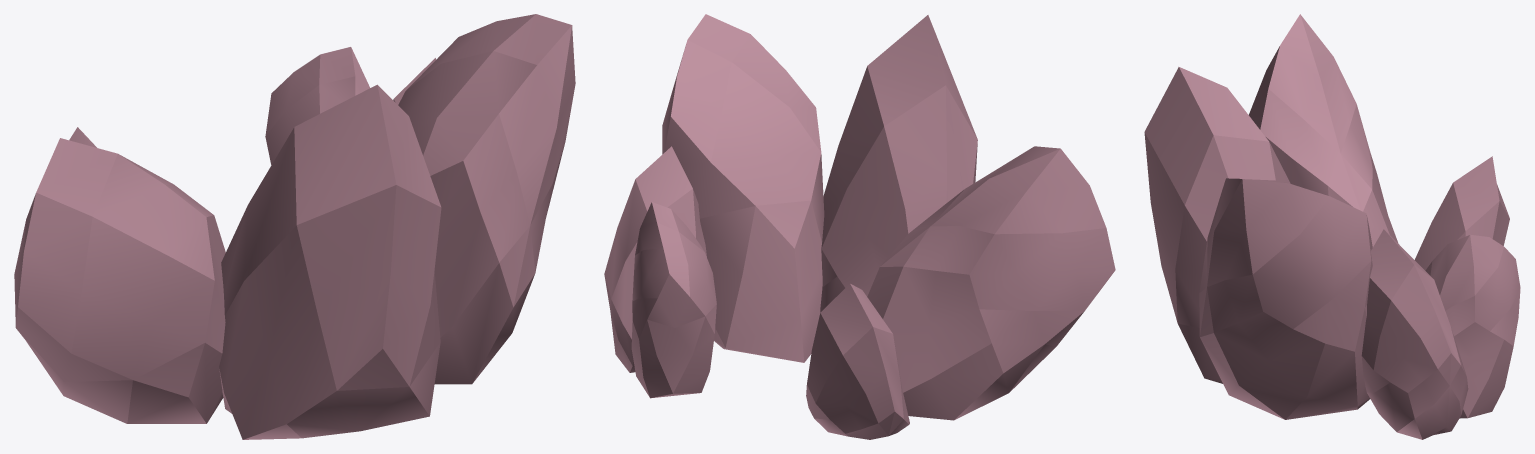
File: caillou.fbx
3 views of the same model, side by side, from view 1: azimuth 30°, elevation 25°; view 2: azimuth 150°, elevation 25°; view 3: azimuth 270°, elevation 25° (orthographic). The views are drawn at different scales.
Visible parts, largest first — view 1: Caillouref.001; view 2: Caillouref.001; view 3: Caillouref.001.
Part boxes in pixels (x1,y1,x2,y2): Caillouref.001: (14,14,575,439); Caillouref.001: (604,14,1115,439); Caillouref.001: (1144,14,1520,439).
Bounding box in the file's own units: 1249 × 812 × 959.
